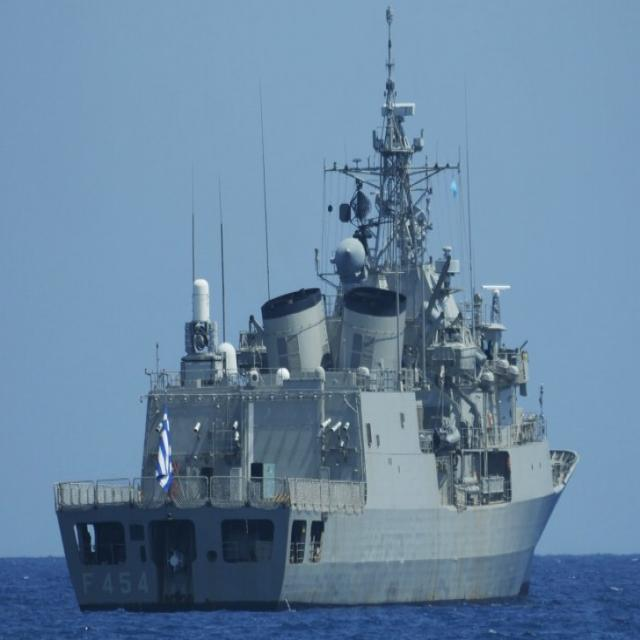Fragata: (53, 1, 584, 623)
